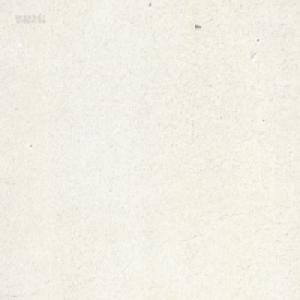Nail: (194, 23, 201, 28)
